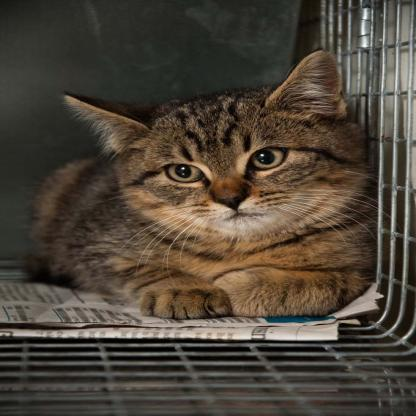cat: (38, 88, 363, 308)
